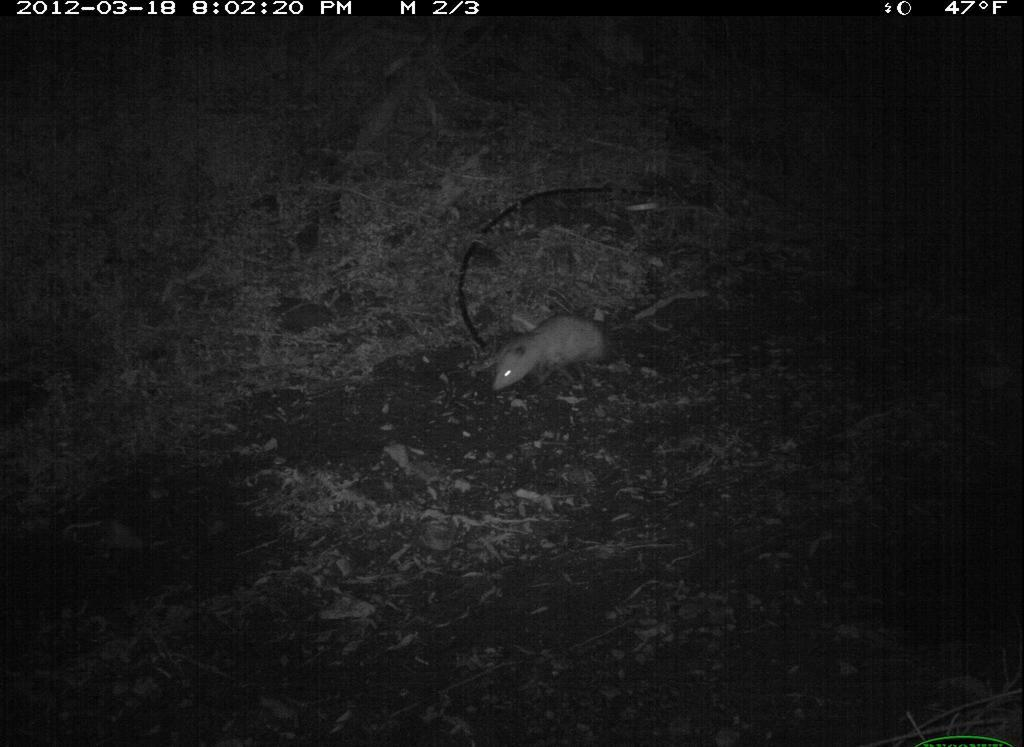opossum: (482, 305, 661, 405)
